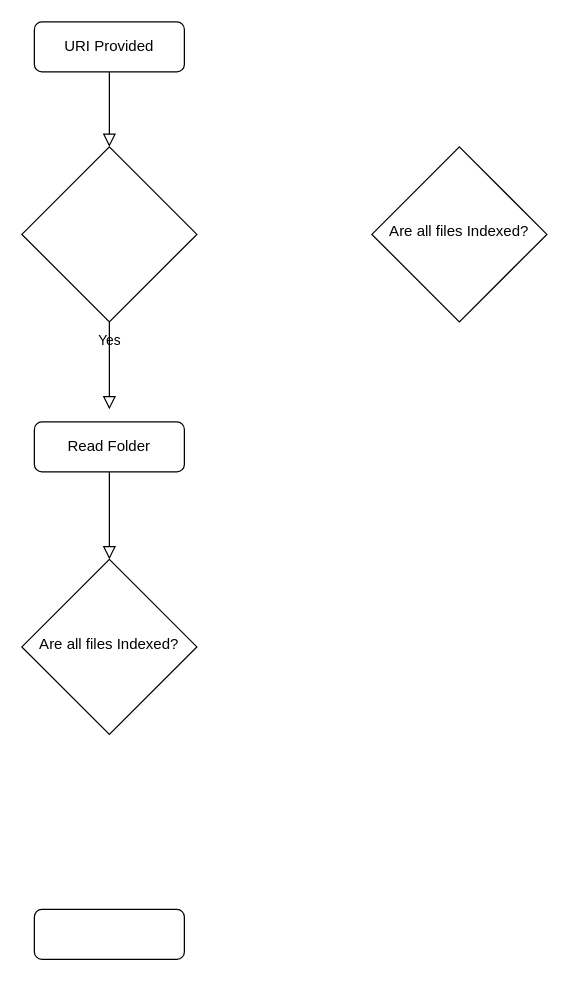
The diagram is 569 pixels wide and 981 high, and some of its shapes have lost their labels. The box of each missing label's shape, as (x1, y1, x2, y2) in pixels:
Is URI a folder?: (21, 146, 197, 322)
Repair Lamp: (33, 908, 184, 959)
